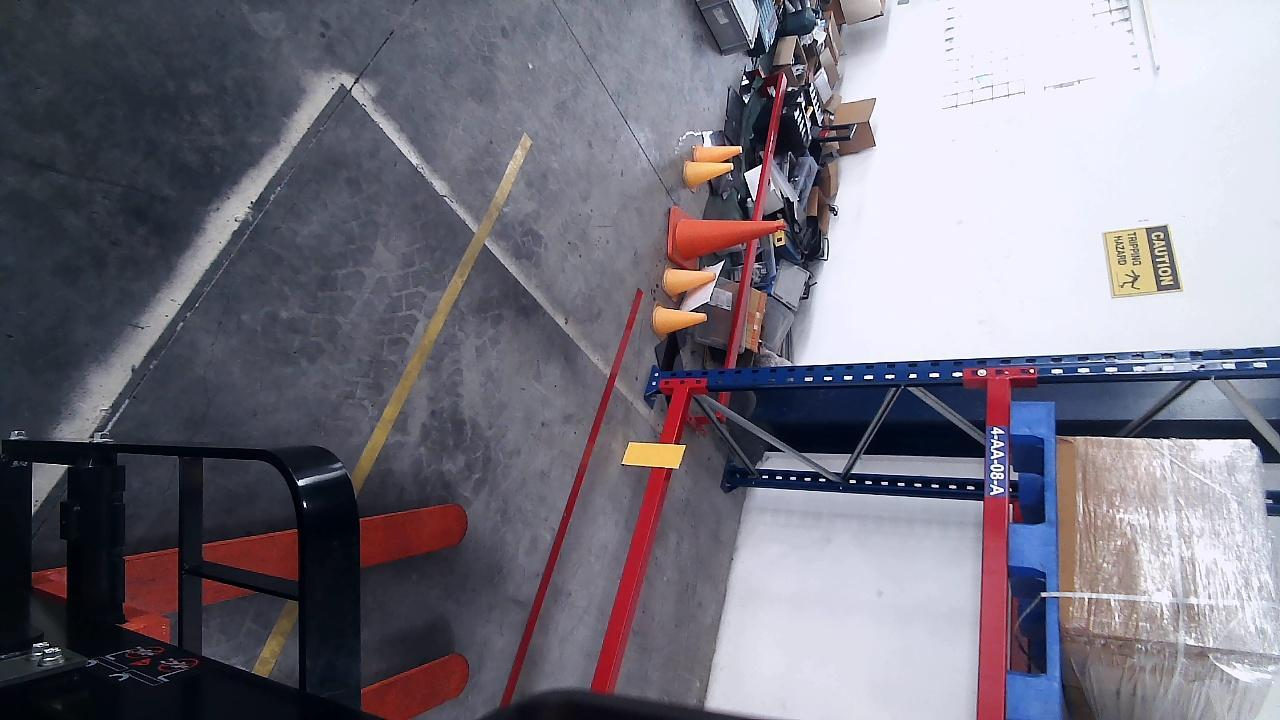h_rack: (586, 388, 688, 695), (978, 382, 1009, 719)
orange_strip: (619, 443, 686, 467)
red_line: (496, 287, 647, 705)
small_pallet: (1005, 402, 1058, 720)
yellow_line: (350, 129, 535, 498)
